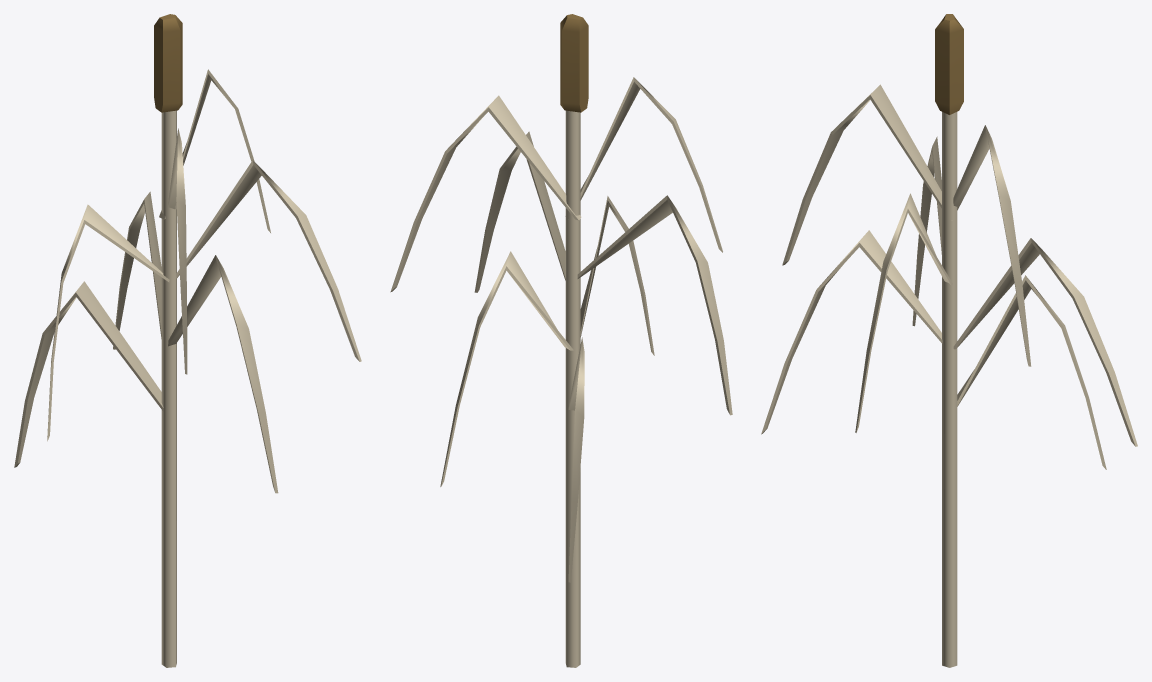
File: Wheat.fbx
3 views of the same model, side by side, from view 1: azimuth 30°, elevation 25°; view 2: azimuth 150°, elevation 25°; view 3: azimuth 270°, elevation 25° (orthographic).
Parts seen in each view (by area): view 1: polySurface68; view 2: polySurface68; view 3: polySurface68.
Part boxes in pixels (x1,y1,x2,y2): polySurface68: (14,14,361,667); polySurface68: (390,14,732,667); polySurface68: (761,14,1137,667).
Bounding box in the file's own units: 86.3 × 187 × 98.7.
